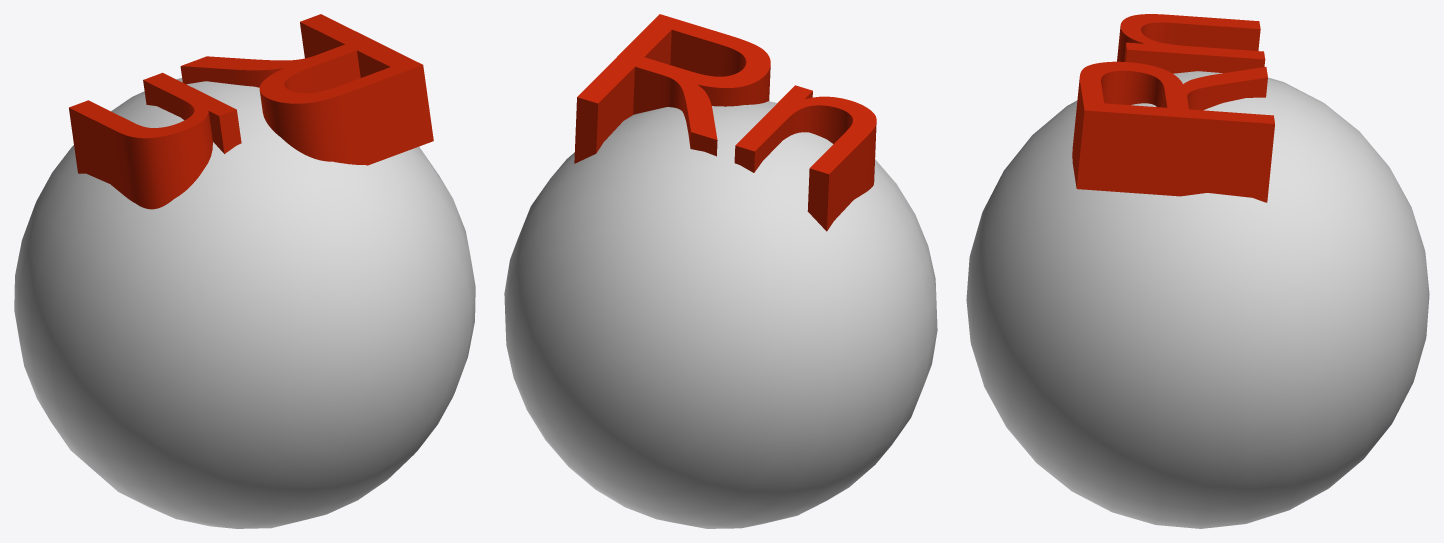
3 views of the same model, side by side, from view 1: azimuth 30°, elevation 25°; view 2: azimuth 150°, elevation 25°; view 3: azimuth 270°, elevation 25° (orthographic). The views are drawn at different scales.
Parts seen in each view (by area): view 1: Rn; view 2: Rn; view 3: Rn.
Part boxes in pixels (x1,y1,x2,y2): Rn: [14, 14, 475, 528]; Rn: [504, 14, 937, 528]; Rn: [966, 14, 1429, 528].
Bounding box in the file's own units: 38.61 × 42.03 × 38.7.
